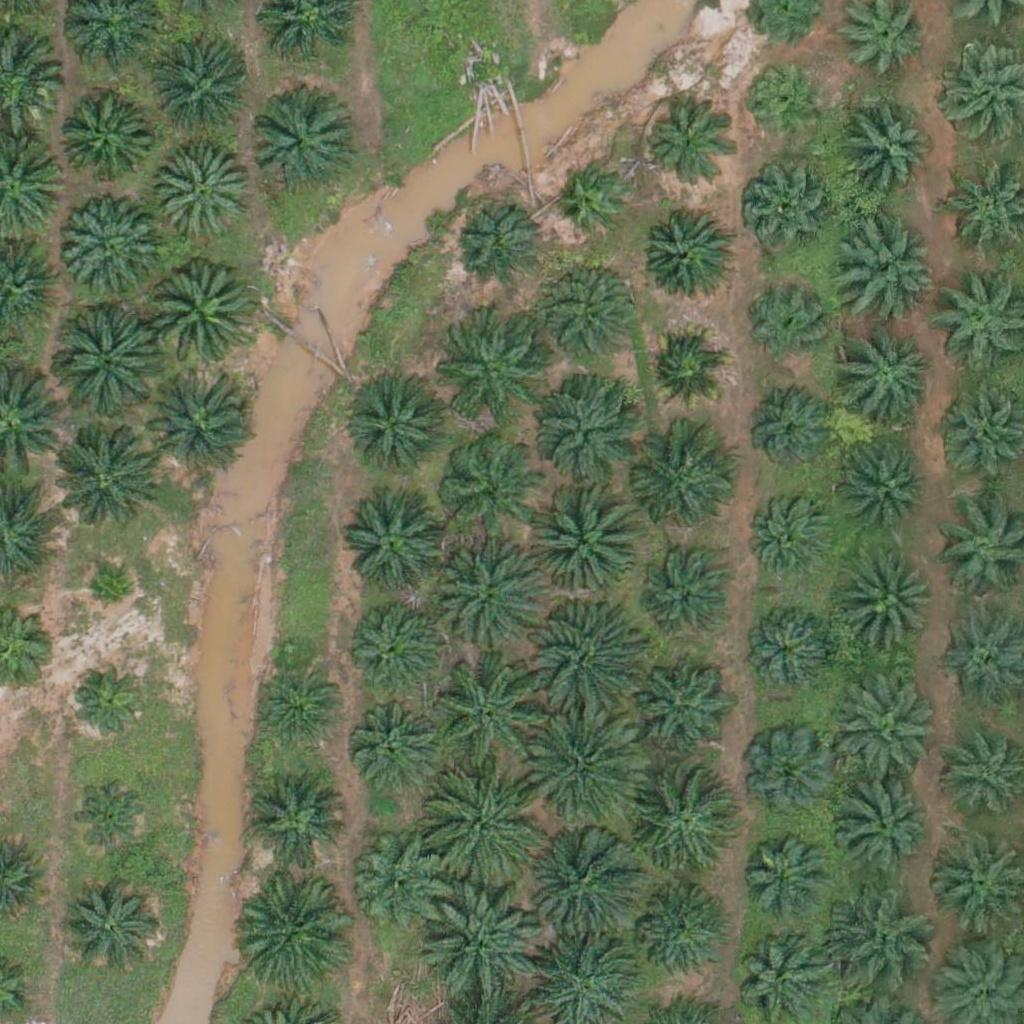Kelapa_Sawit: (238, 872, 351, 986), (422, 889, 535, 1002), (531, 710, 644, 823), (531, 599, 644, 712), (530, 481, 643, 594), (531, 366, 644, 479), (428, 541, 541, 654), (430, 770, 543, 883), (47, 306, 160, 419), (44, 423, 157, 536), (832, 671, 944, 785), (535, 824, 647, 938), (826, 880, 938, 993), (627, 425, 739, 538), (629, 775, 741, 888), (435, 655, 547, 768), (143, 258, 255, 371), (140, 366, 252, 479), (59, 878, 159, 979), (838, 323, 938, 424), (738, 723, 838, 824), (630, 663, 730, 764), (432, 323, 532, 424), (438, 435, 538, 536), (344, 589, 444, 690), (344, 497, 444, 598), (350, 371, 450, 472), (246, 769, 346, 870), (247, 95, 347, 196), (154, 144, 254, 245), (52, 89, 152, 190), (59, 197, 159, 298), (837, 104, 937, 204), (840, 220, 940, 320), (841, 557, 941, 657), (834, 778, 934, 878), (739, 602, 839, 702), (539, 258, 639, 358), (351, 832, 451, 932), (347, 691, 447, 791), (152, 46, 252, 146), (68, 772, 156, 861), (736, 935, 824, 1023), (633, 889, 721, 977), (840, 440, 928, 528), (739, 832, 827, 920), (741, 61, 829, 149), (745, 279, 833, 367), (746, 391, 834, 479), (746, 496, 834, 584), (454, 199, 542, 287), (743, 162, 830, 250), (645, 103, 732, 191), (641, 208, 728, 296), (66, 654, 153, 742), (641, 326, 728, 414), (638, 547, 725, 635), (253, 657, 340, 745), (557, 165, 632, 241), (85, 569, 135, 619)
